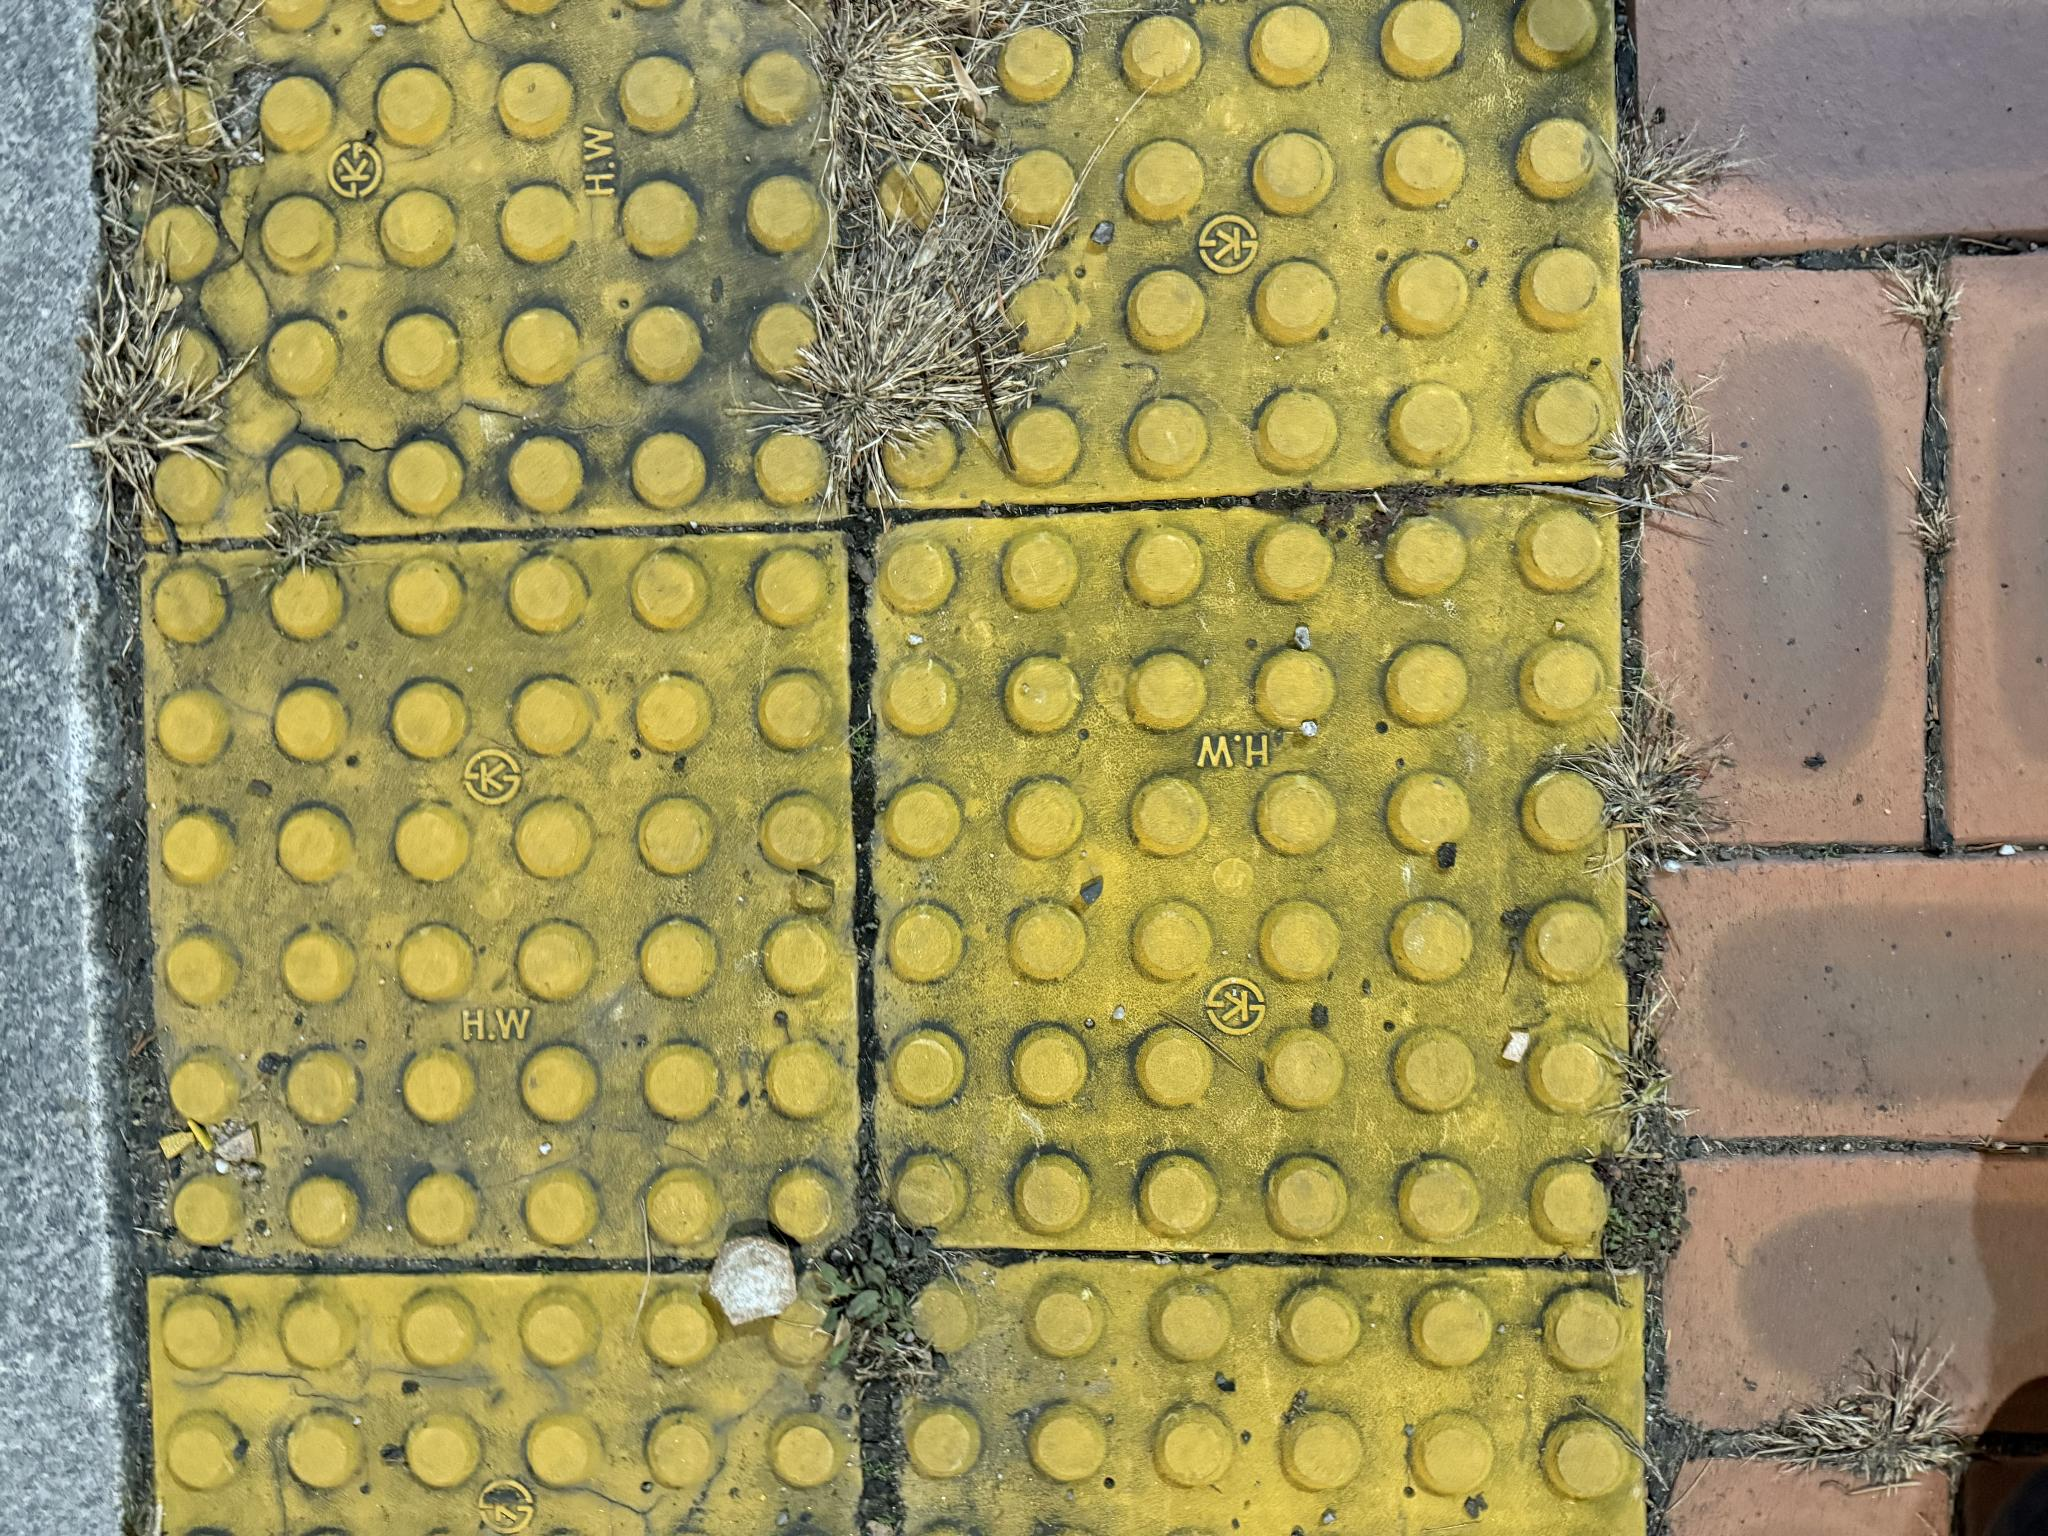Stop block normal: (285, 878, 1014, 1536)
